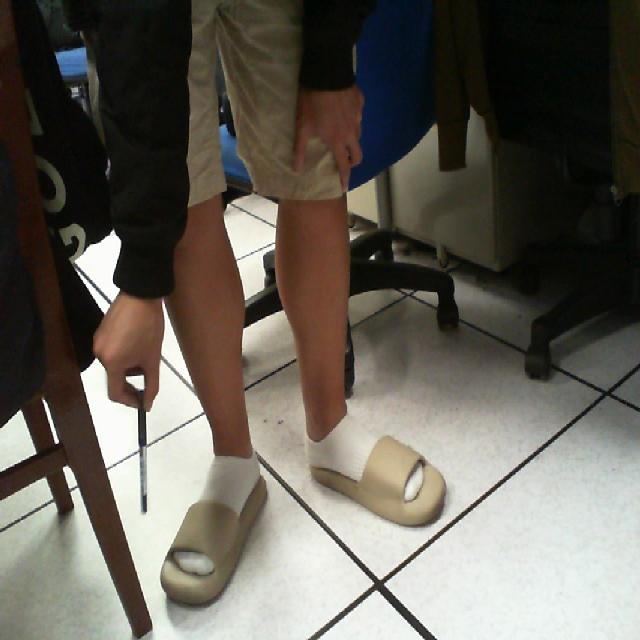Pen: (109, 366, 164, 541)
